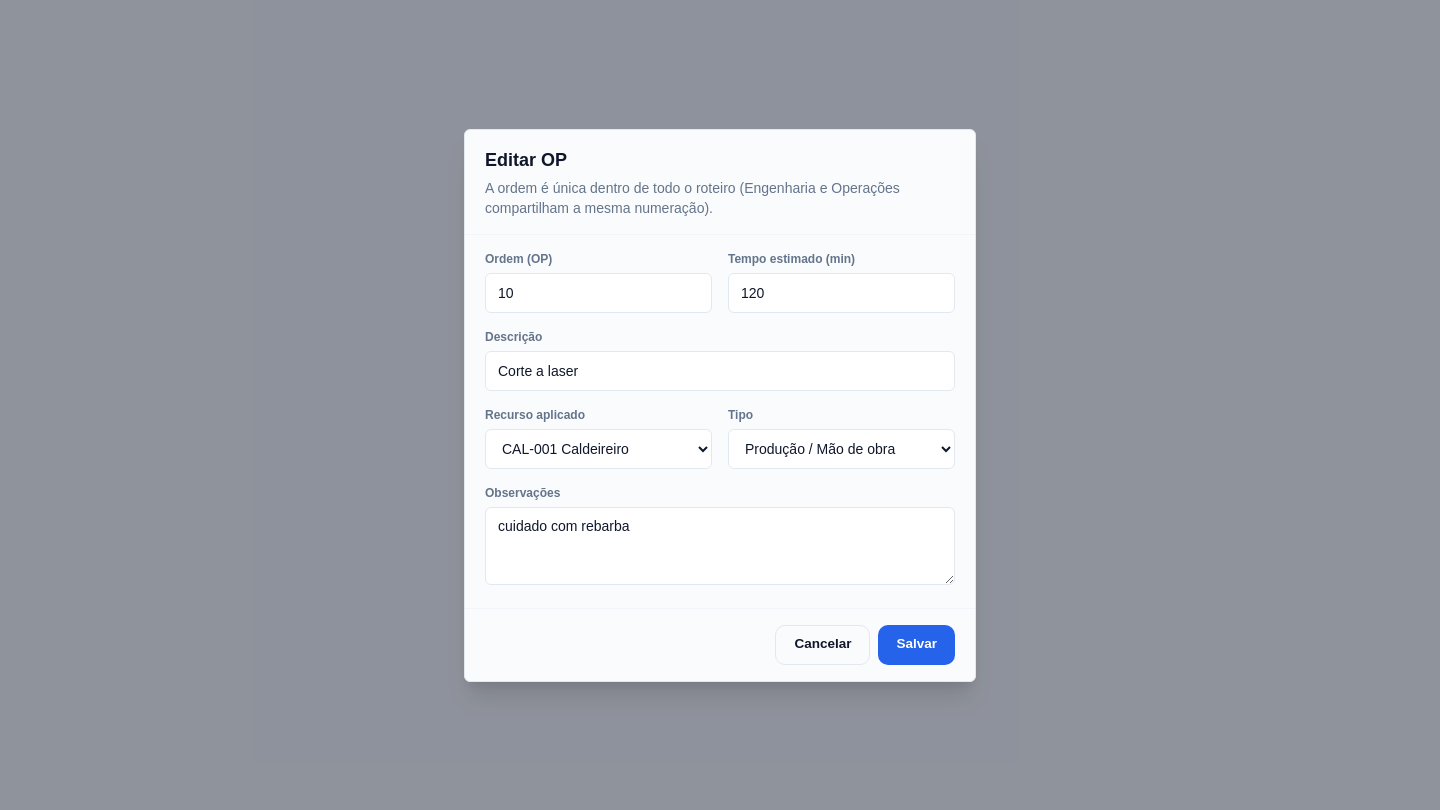
AdicionarOperacaoModal › salvar com erro mostra a mensagem e mantem o modal aberto (nao fecha)
Click the button "Salvar": (917, 644) [878, 624, 955, 664]
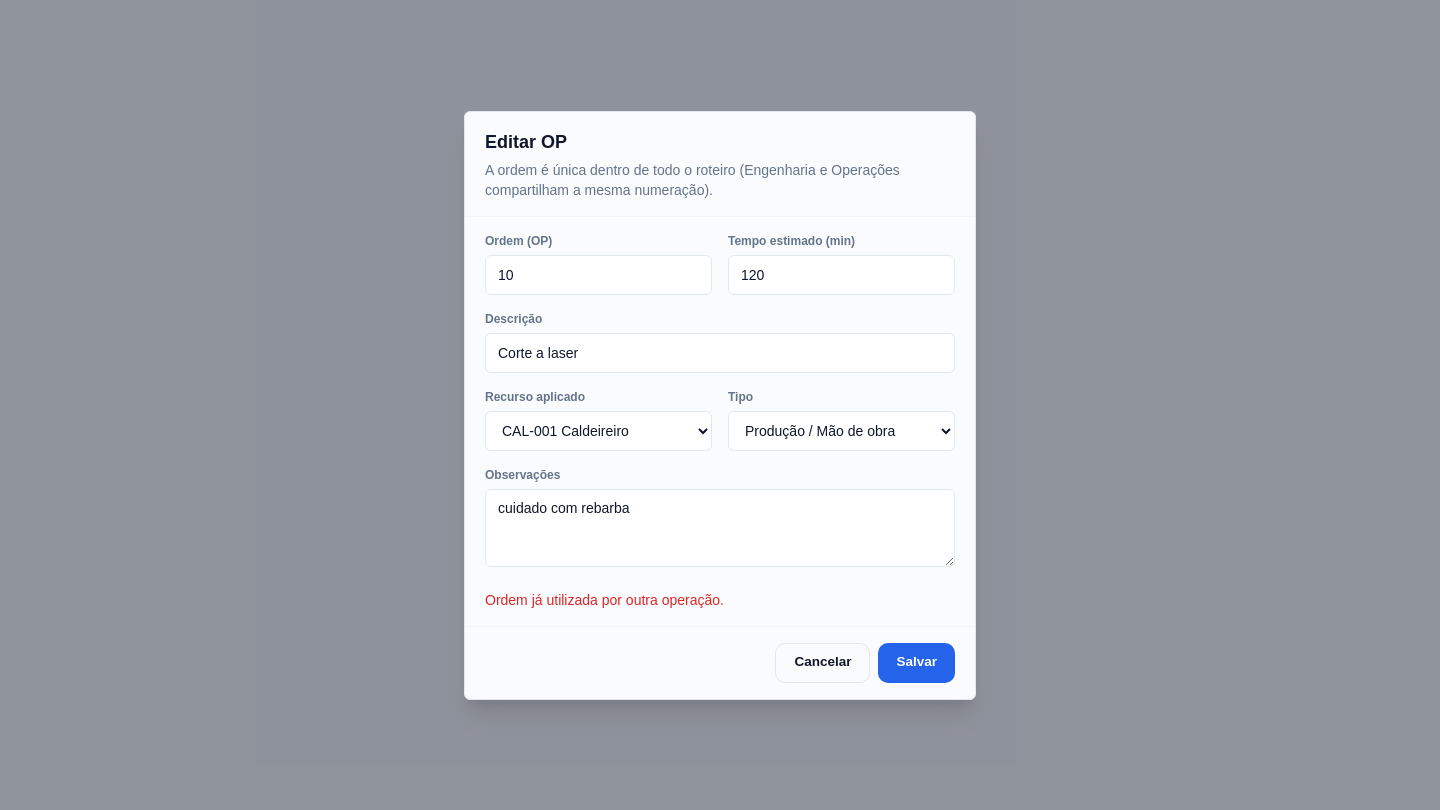
Check: the field below "Descrição" holds "Corte a laser", box [485, 332, 955, 372]
Check: the text "Ordem já utilizada por outra operação." is shown, box [485, 592, 724, 608]
